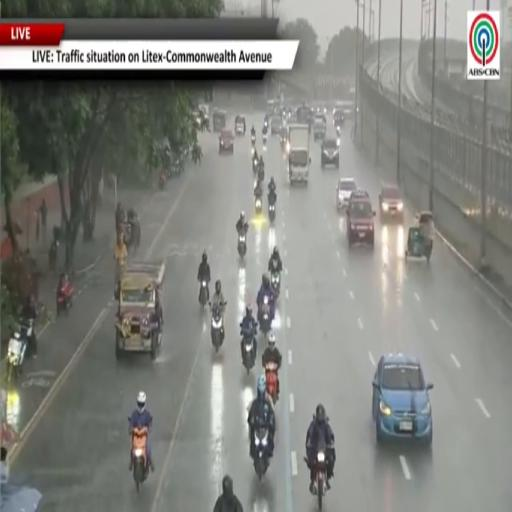car: (372, 354, 433, 445), (346, 191, 375, 247), (379, 185, 404, 222), (337, 178, 356, 210), (321, 138, 339, 168), (313, 114, 326, 140), (213, 109, 227, 132), (219, 130, 233, 153), (235, 115, 246, 135), (349, 188, 369, 199), (271, 116, 282, 135), (333, 109, 344, 126)
jeepney: (116, 262, 164, 359)
motorcycle: (132, 427, 149, 491), (6, 331, 27, 382), (314, 448, 327, 510), (254, 428, 269, 479), (57, 282, 74, 315), (211, 308, 224, 351), (265, 362, 278, 404), (259, 296, 271, 335), (243, 335, 255, 374), (19, 318, 34, 341), (49, 239, 58, 271), (237, 232, 247, 258), (271, 272, 280, 297), (200, 281, 208, 307), (268, 203, 275, 222), (159, 173, 166, 190), (258, 166, 264, 183), (255, 198, 261, 214), (253, 157, 258, 174), (262, 133, 268, 146), (336, 125, 341, 135), (252, 134, 255, 146)
tricycle: (405, 227, 432, 262)
truck: (287, 124, 310, 183)
